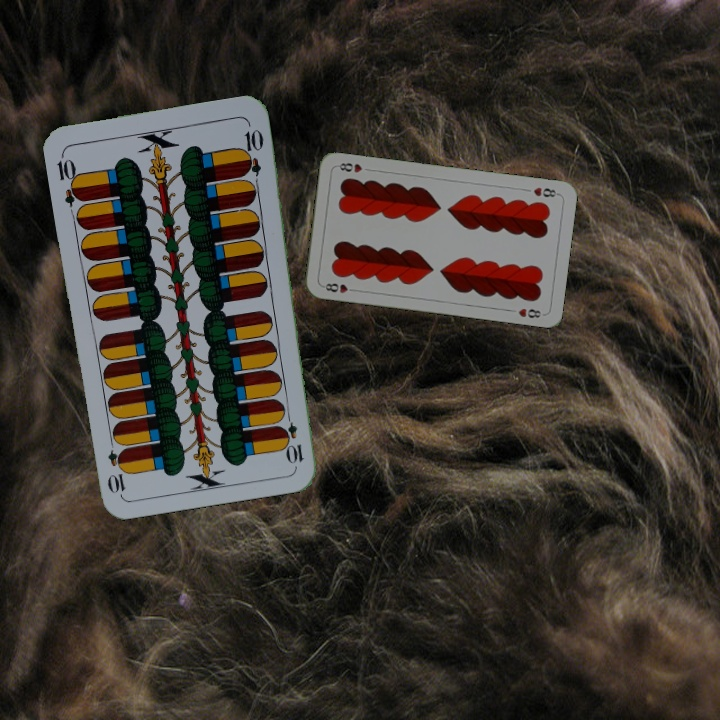E10: (53, 149, 86, 208), (280, 407, 306, 466)
H8: (319, 279, 359, 296), (529, 183, 561, 200)
